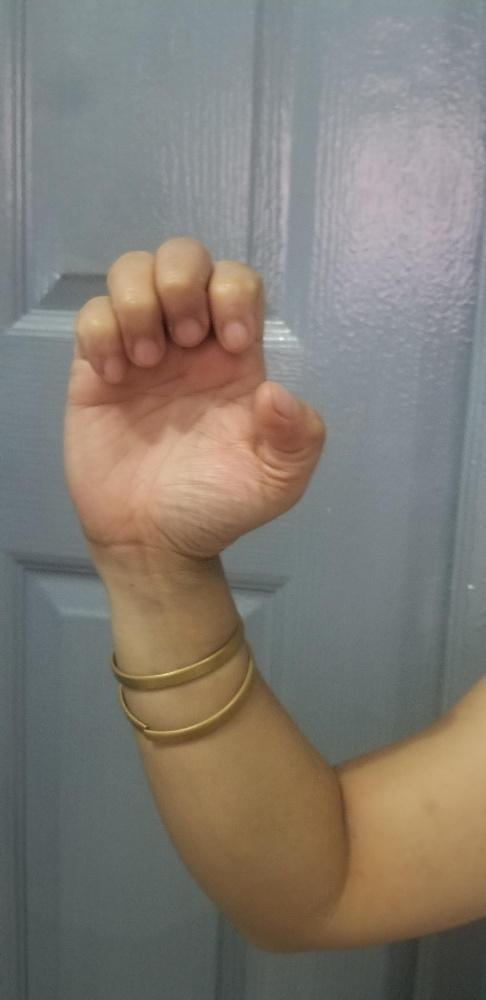e: (64, 235, 322, 539)
